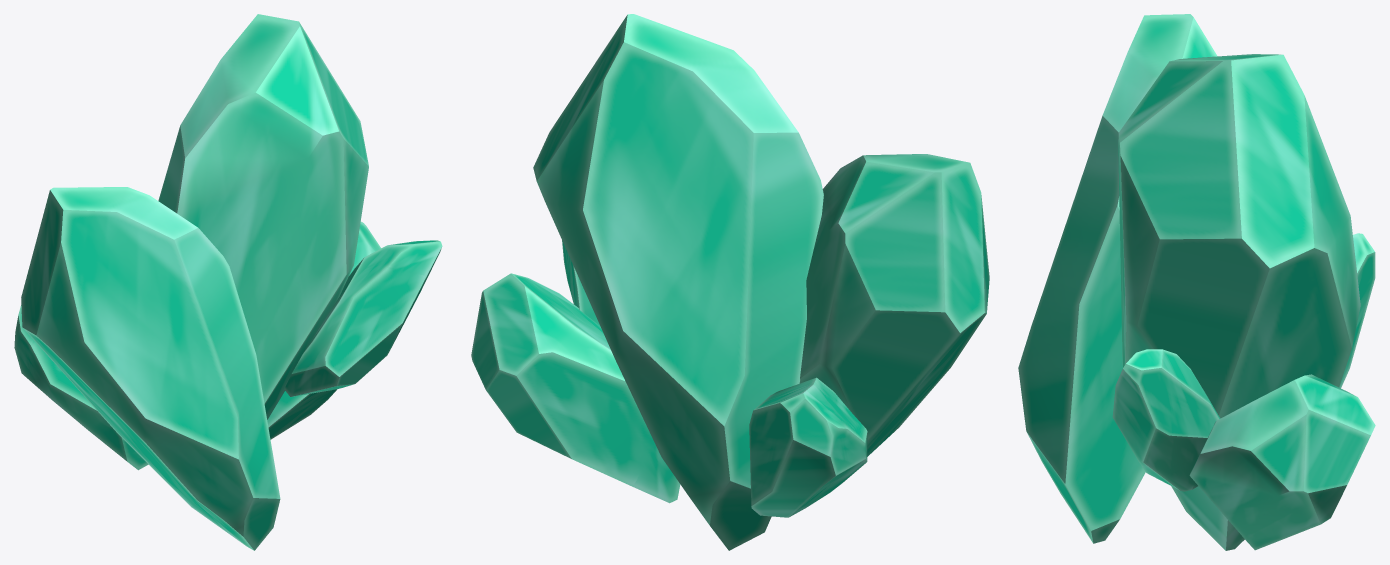
Rendered from Crystal001.fbx.
3 renders of one model, left to right at view 1: azimuth 30°, elevation 25°; view 2: azimuth 150°, elevation 25°; view 3: azimuth 270°, elevation 25°, orthographic. The views are drawn at different scales.
Parts seen in each view (by area): view 1: crystalgreen2; view 2: crystalgreen2; view 3: crystalgreen2.
Part boxes in pixels (x1=…): crystalgreen2: x1=14, y1=14, x2=442, y2=550; crystalgreen2: x1=471, y1=14, x2=989, y2=550; crystalgreen2: x1=1018, y1=14, x2=1375, y2=550.
Size of the model in its own units: 9.27 by 10.13 by 6.05.
1 material, 1 textured.
